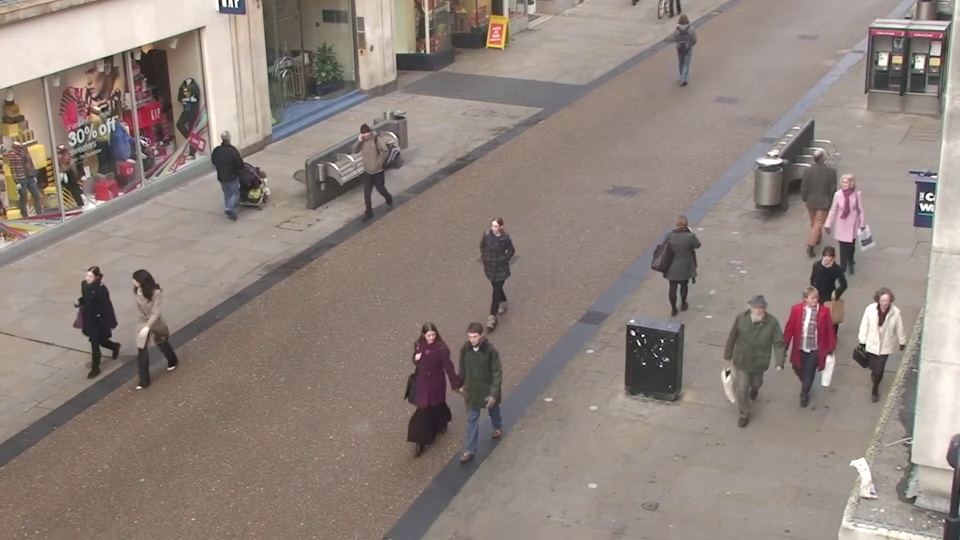pedestrian: (851, 286, 907, 429), (63, 260, 122, 391), (400, 318, 452, 466), (108, 267, 165, 400), (443, 322, 493, 471), (729, 296, 780, 439), (777, 282, 829, 422), (793, 244, 842, 374), (820, 175, 864, 288), (473, 215, 513, 338), (663, 207, 703, 328), (800, 139, 840, 242), (217, 123, 255, 219), (344, 122, 379, 219), (671, 11, 695, 78)
